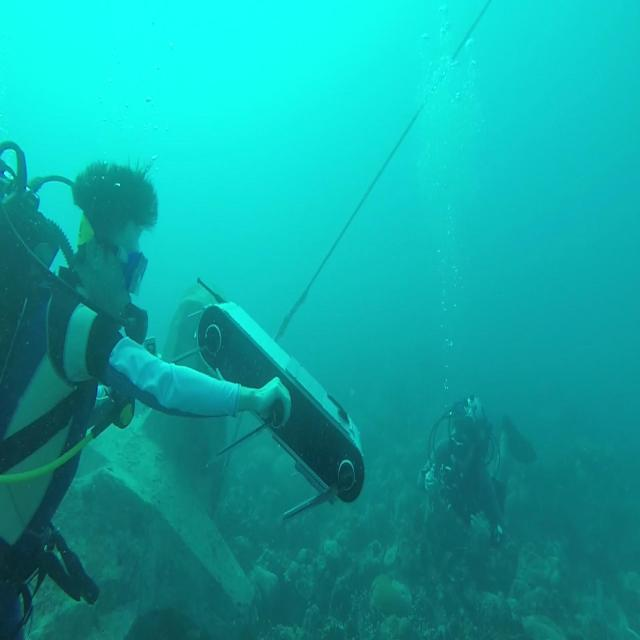human: (0, 139, 292, 637), (418, 392, 536, 551)
